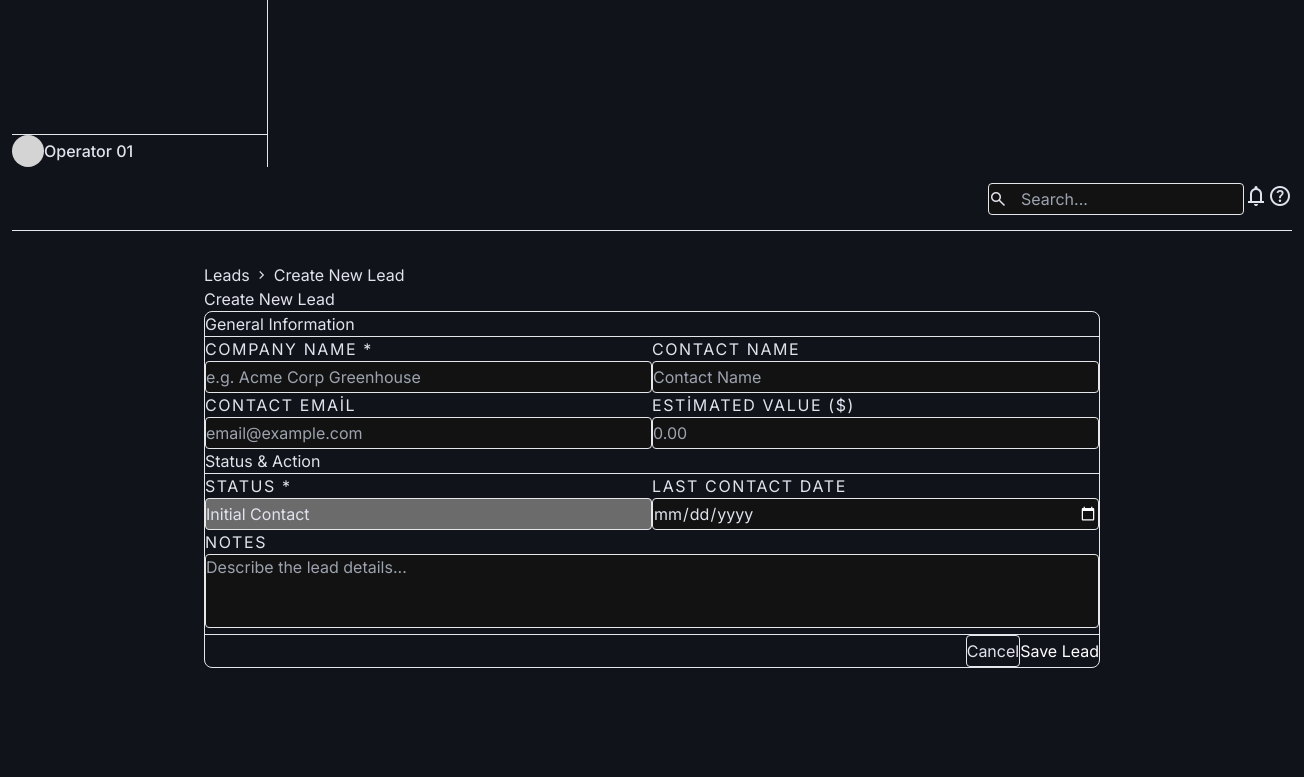
Test: LeadDetailsForm › submits a new lead
(page scrolled)
In the field labelled "Company Name *": (428,377) [205,361,652,393], type "Greenhouse Inc"
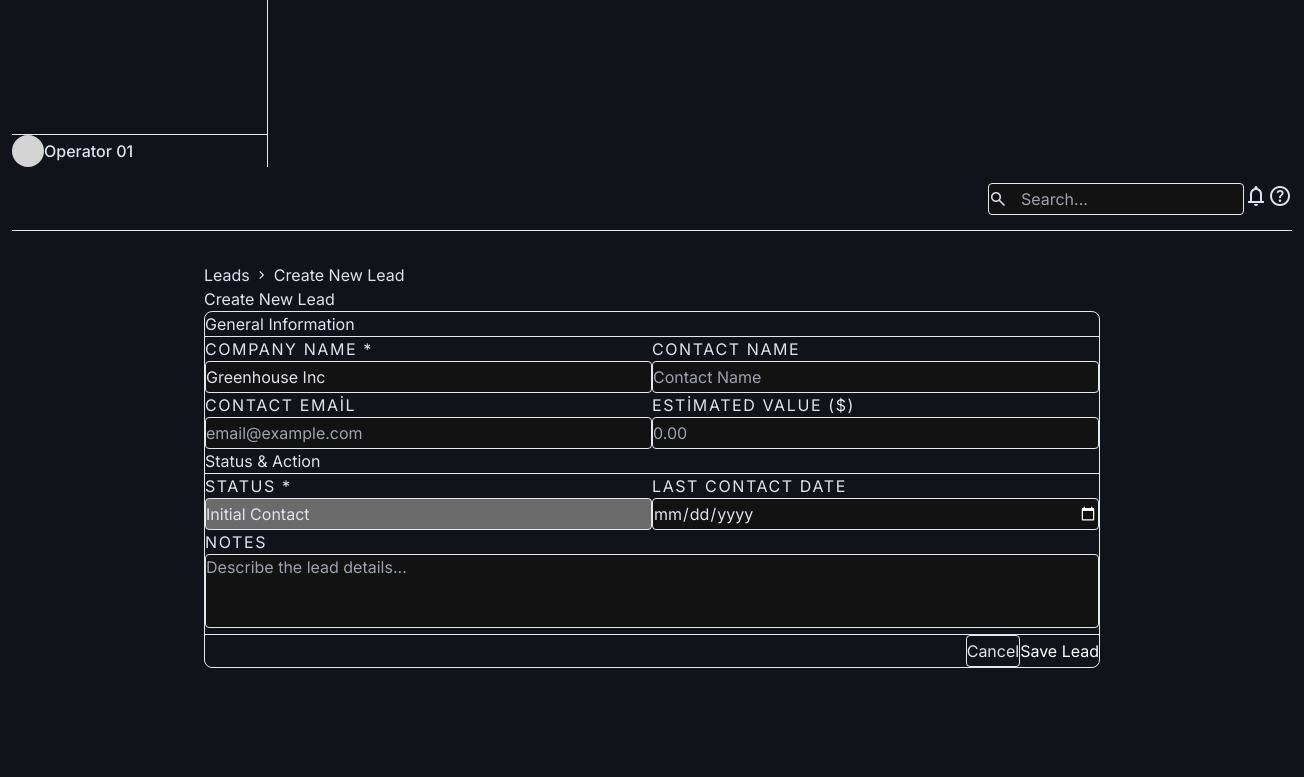
In the field labelled "Contact Name": (876,377) [652,361,1099,393], type "Alice"
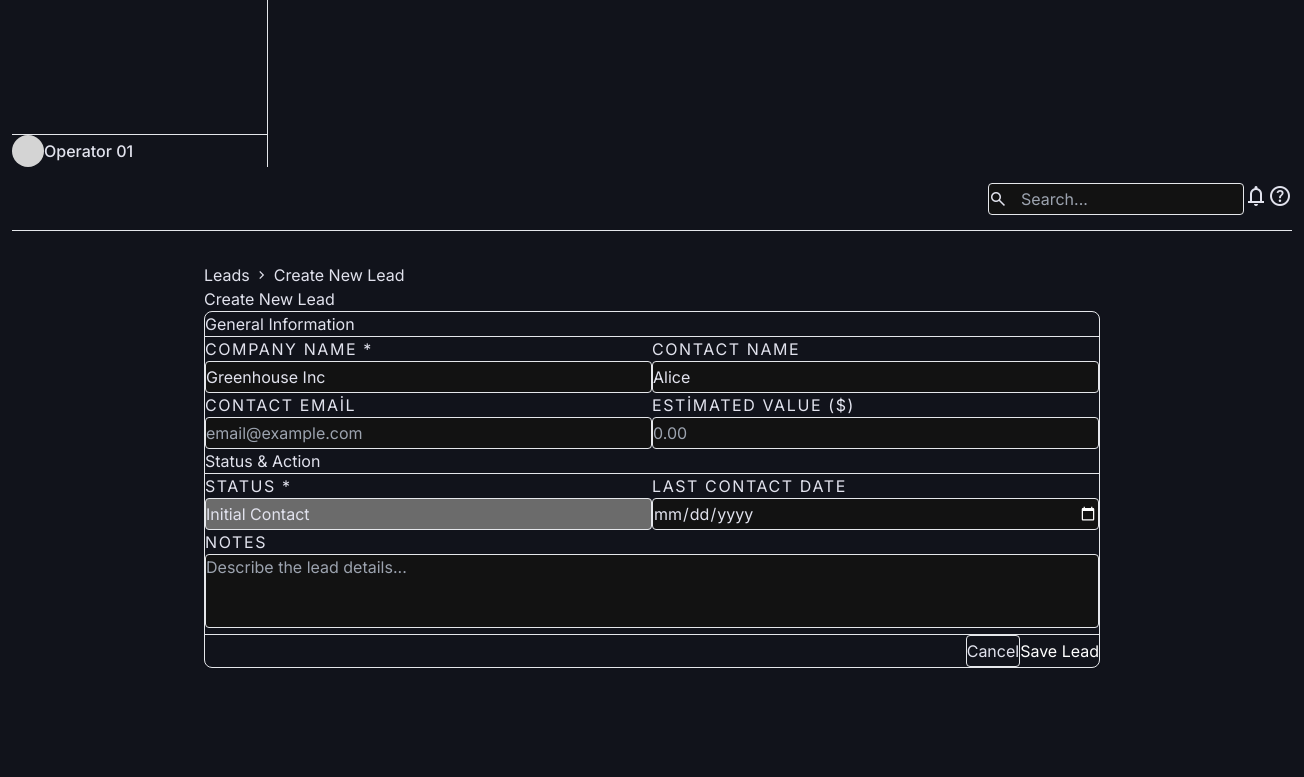
In the field labelled "Contact Email": (428,433) [205,417,652,449], type "alice@greenhouse.example"
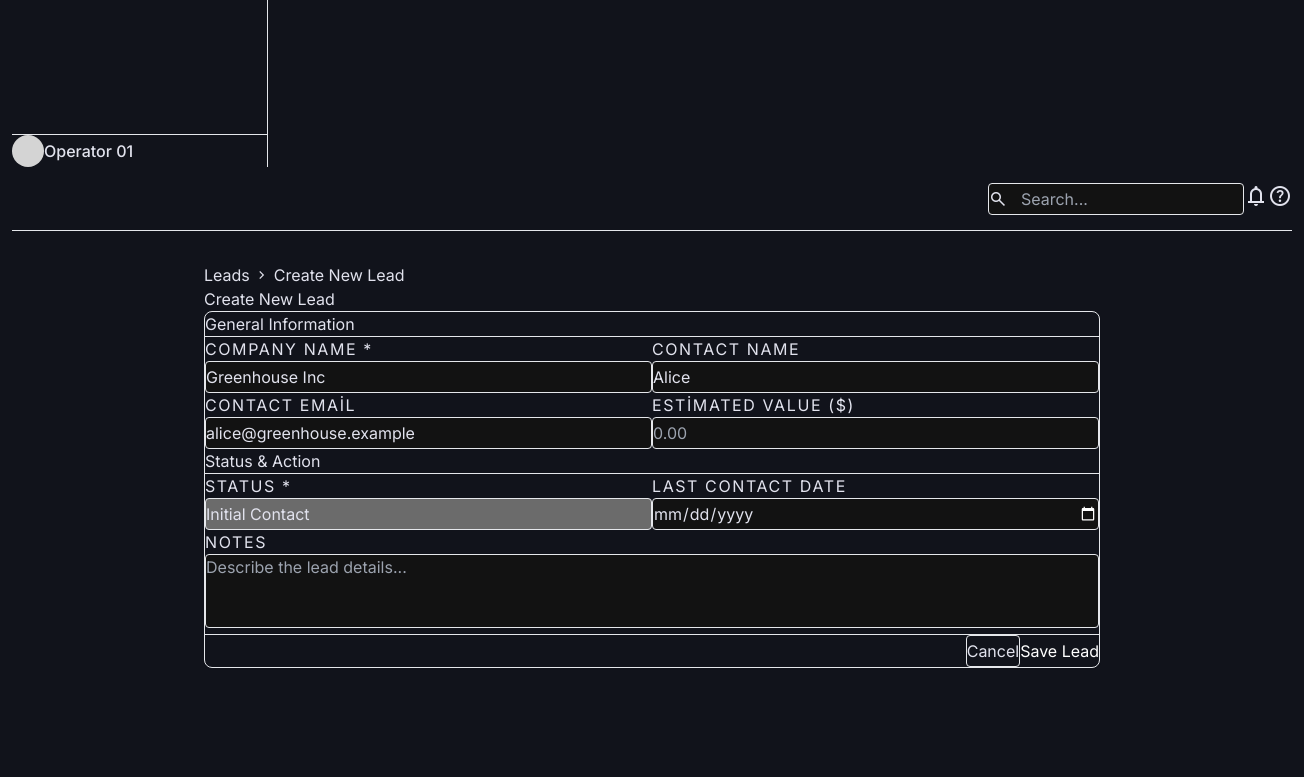
Click the button "Save Lead": (1060,651) [1020,635,1099,667]
(page scrolled)
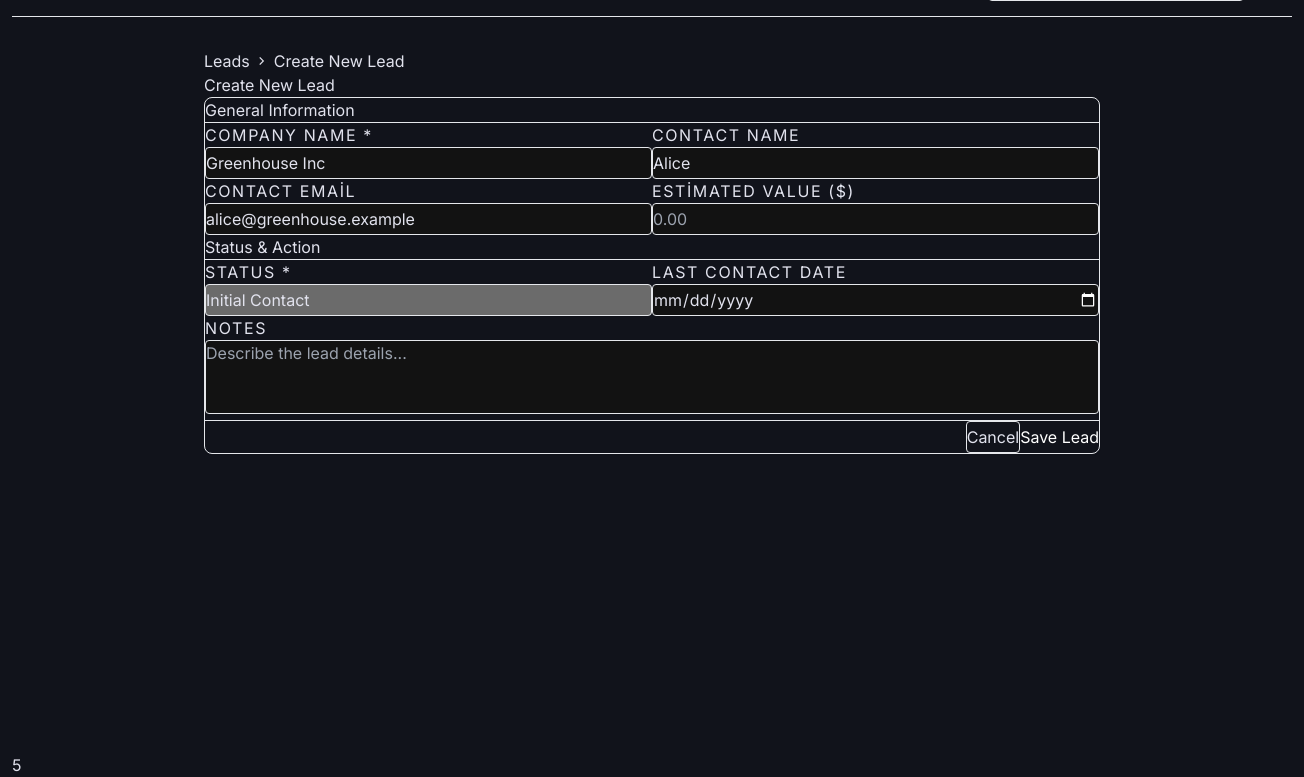
Check: the text with test id "lead-count" reads "5", box [12,755,22,775]
